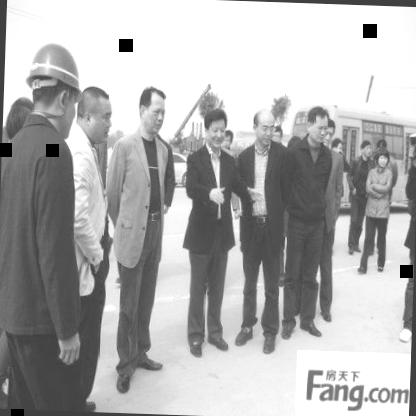head: (73, 84, 116, 148), (134, 80, 170, 140), (3, 94, 37, 150), (202, 106, 229, 154), (250, 102, 275, 150), (304, 105, 329, 149), (319, 116, 337, 151), (268, 122, 286, 154), (220, 124, 236, 155), (330, 134, 345, 163), (357, 138, 372, 158), (376, 152, 392, 169)
helmet: (29, 38, 86, 138)
